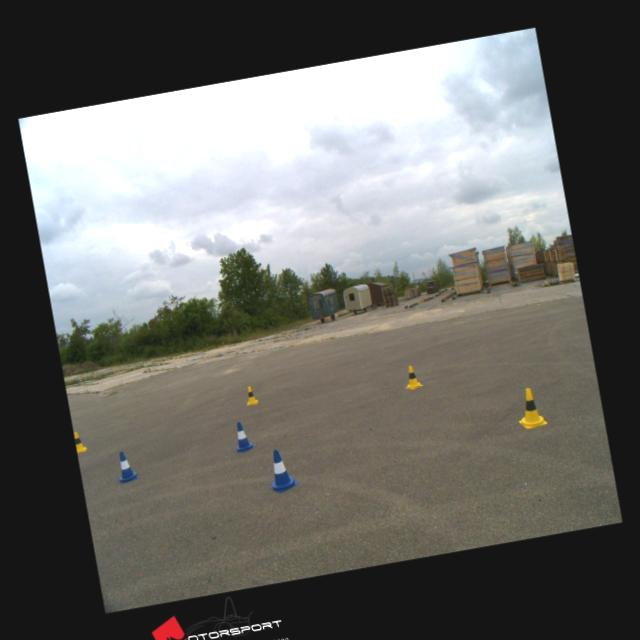blue_cone: (263, 446, 299, 494), (228, 418, 256, 452), (114, 449, 138, 484)
yellow_cone: (512, 385, 548, 429), (400, 362, 422, 390), (73, 429, 87, 453), (244, 384, 258, 404)
